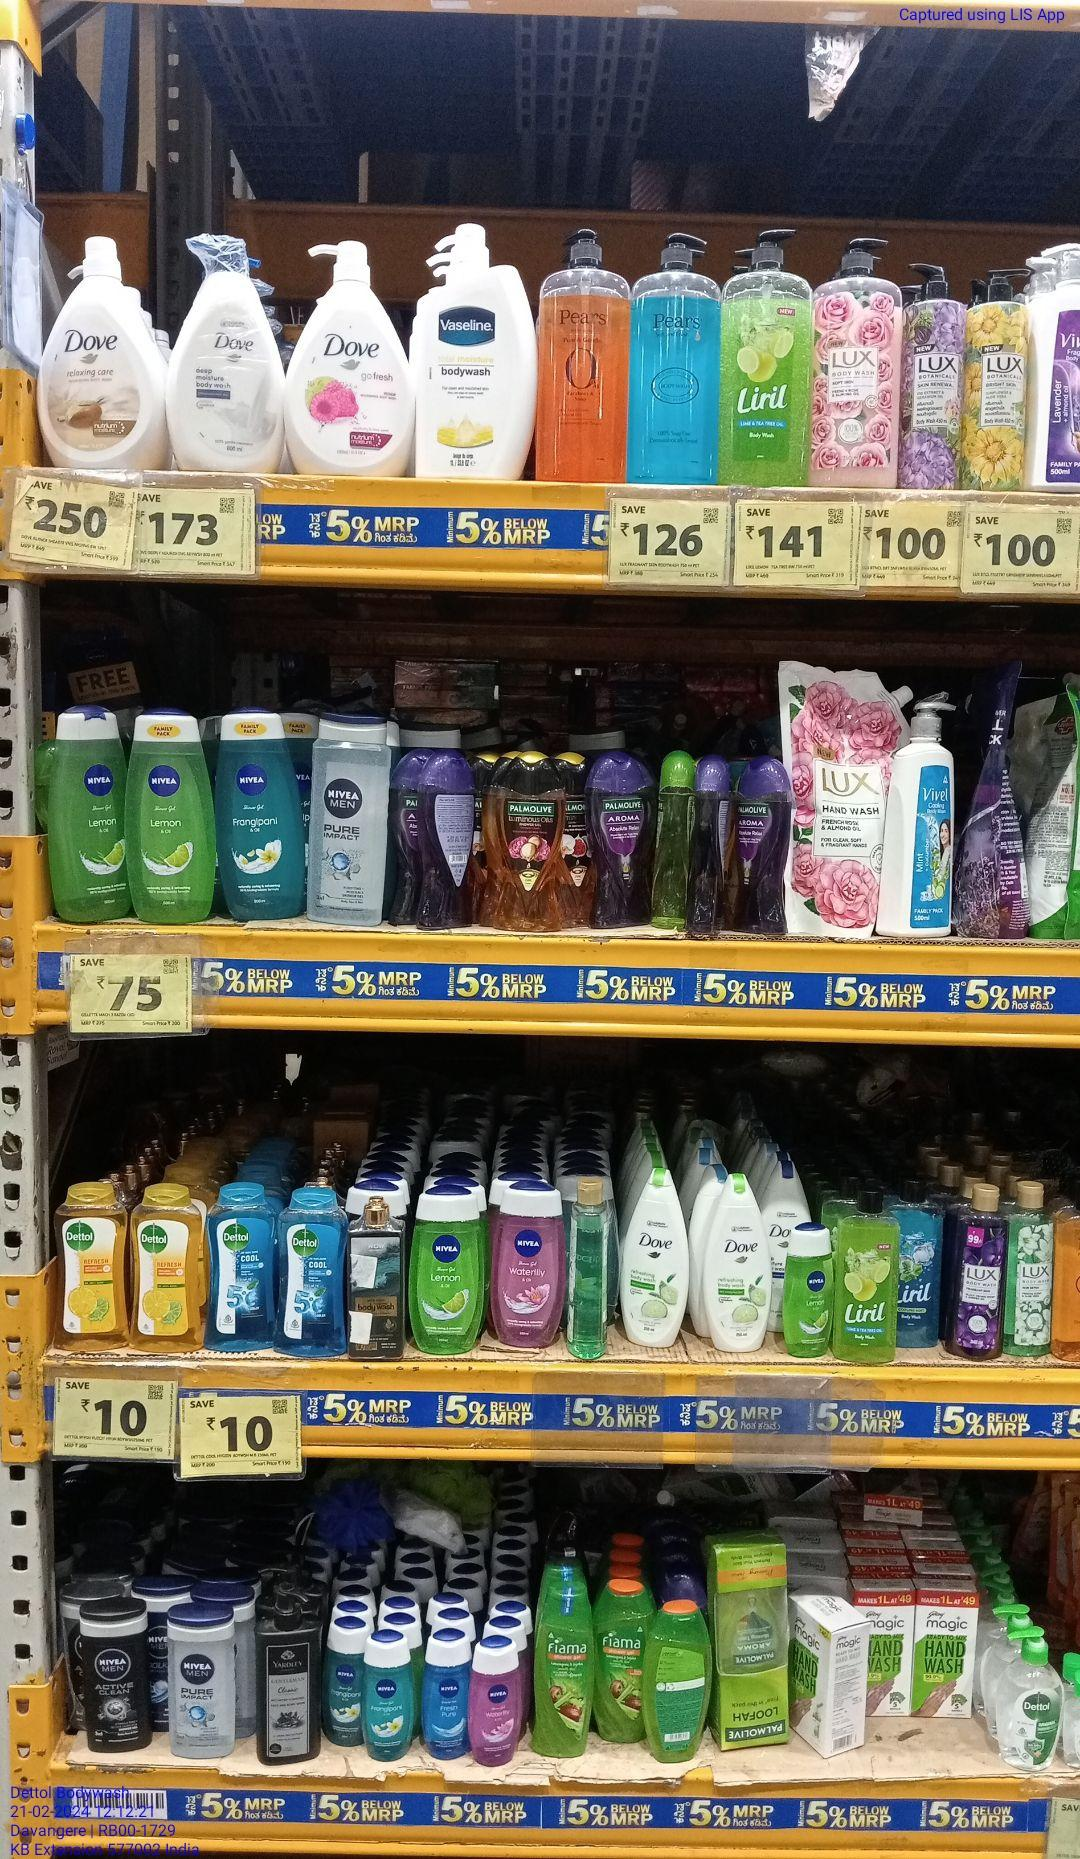Dettol_Bodywash_Cool: (202, 1180, 278, 1352), (276, 1183, 346, 1356)
Dettol_Bodywash_Refresh: (51, 1179, 130, 1351), (129, 1180, 202, 1352)
Dove_Refreshing_Body_Wash_250ML: (620, 1166, 690, 1349), (703, 1172, 771, 1355)
Liril_Lime_and_Tea_Tree_Oil_Body_Wash_250ML: (833, 1188, 899, 1360)
Lux_Black_Orchid_Scent_and_Juniper_Oil_Body_Wash_245ML: (946, 1183, 1008, 1359)
Lux_Body_Wash_Skin_Detox_Freesia_Scent_and_Alove_Vera_245ML: (1008, 1179, 1053, 1360)
Nivea_Shower_Gel_Frangipani_and_Oil_250ML: (219, 706, 305, 922)
Nivea_Shower_Gel_Lemon_and_Oil_250ML: (122, 705, 217, 926), (44, 701, 123, 923), (406, 1184, 485, 1355)
Nivea_Shower_Gel_Waterlily_and_Oil_250ML: (489, 1179, 567, 1350)
Palmolive_Aroma_Relax_250ML: (585, 750, 649, 927)
Palmolive_Luminous_Oils_Invigorating_Macadamia_Oil_With_Peony_250ML: (492, 750, 563, 932)
